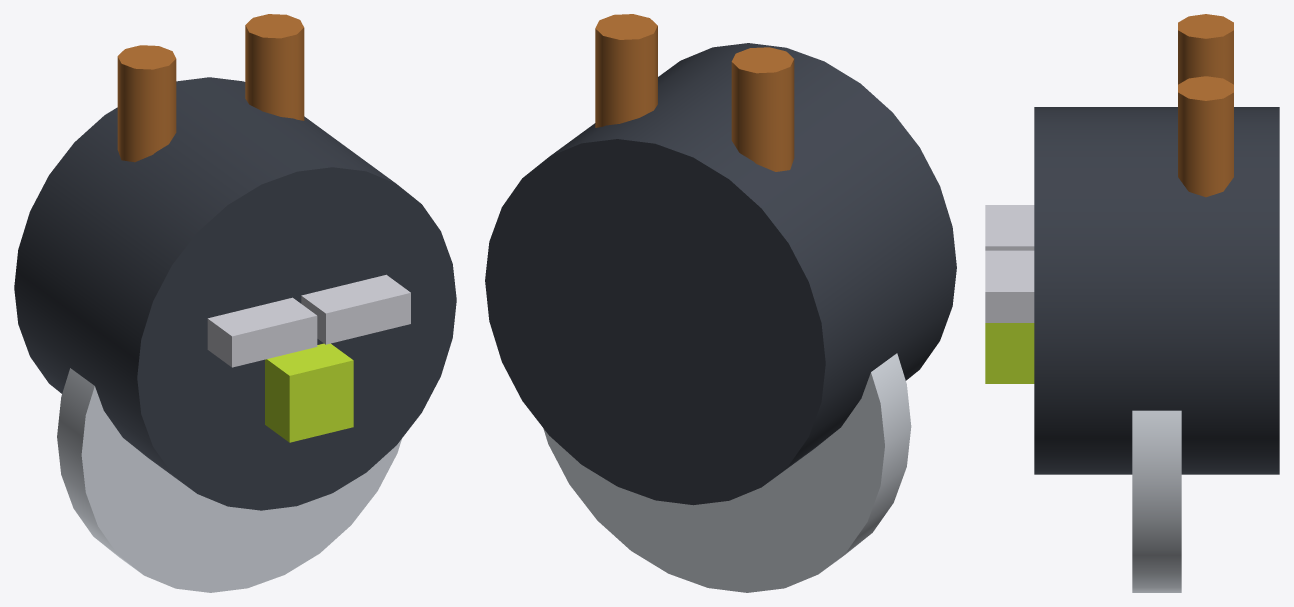
The picture shows the model from 3 angles, left to right: view 1: azimuth 30°, elevation 25°; view 2: azimuth 150°, elevation 25°; view 3: azimuth 270°, elevation 25°; orthographic projection. The views are drawn at different scales.
Parts seen in each view (by area): view 1: Cargador USB doble 12V; view 2: Cargador USB doble 12V; view 3: Cargador USB doble 12V.
Boxes of the visible parts, left/top/right/bottom form: Cargador USB doble 12V: left=14, top=14, right=456, bottom=592; Cargador USB doble 12V: left=485, top=14, right=956, bottom=592; Cargador USB doble 12V: left=985, top=14, right=1279, bottom=592.
Bounding box in the file's own units: 0.6695 × 1 × 0.515.
